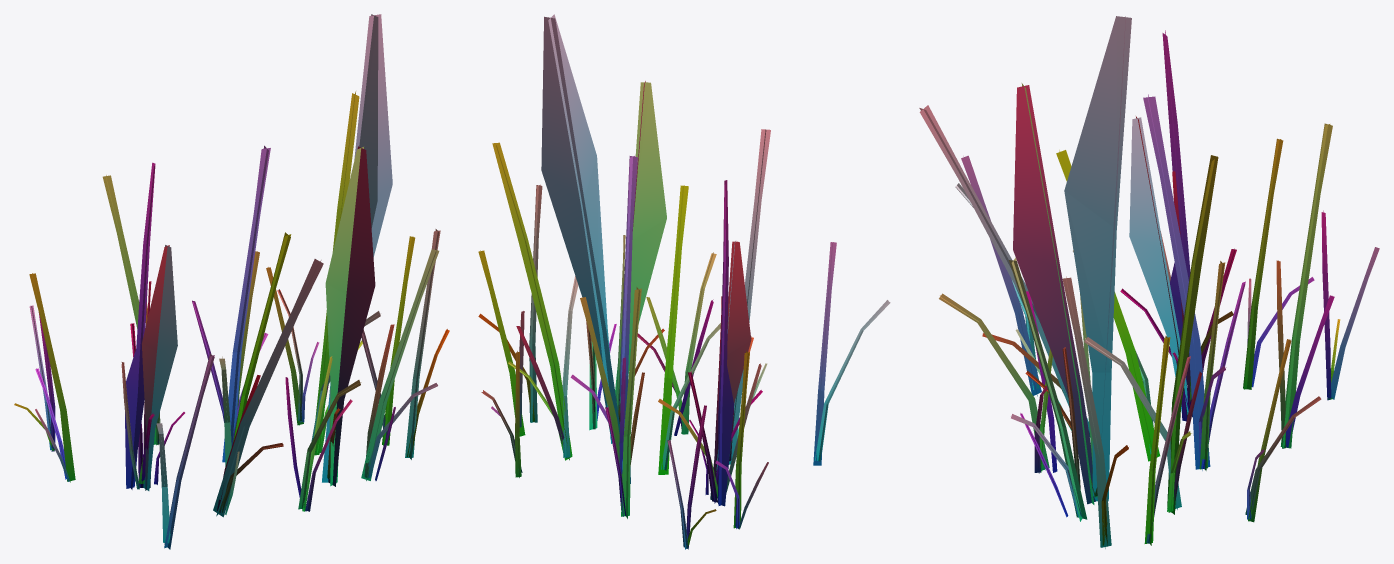
File: Nordic_Coastal_Groundcover_vlqkdeaja_Mid_vlqkdeaja_VarM_LOD0.fbx
The picture shows the model from 3 angles, left to right: view 1: azimuth 30°, elevation 25°; view 2: azimuth 150°, elevation 25°; view 3: azimuth 270°, elevation 25°; orthographic projection. The views are drawn at different scales.
Parts seen in each view (by area): view 1: _u5j5_VarM_LOD1; view 2: _u5j5_VarM_LOD1; view 3: _u5j5_VarM_LOD1.
Boxes of the visible parts, x1,y1,x2,y2 form: _u5j5_VarM_LOD1: (14, 14, 449, 549); _u5j5_VarM_LOD1: (478, 14, 890, 549); _u5j5_VarM_LOD1: (919, 16, 1379, 548).
Size of the model in its own units: 38.35 by 44.98 by 36.04.
